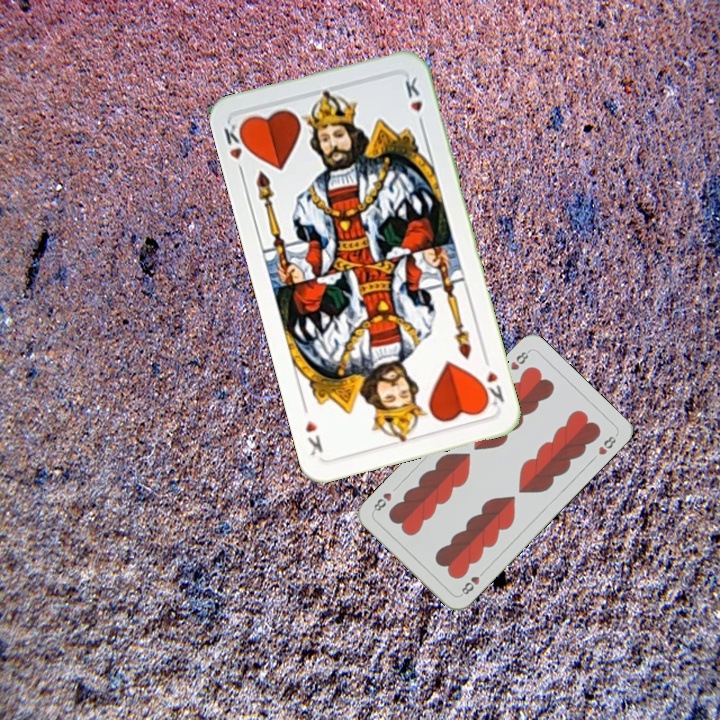H8: (457, 566, 488, 598), (506, 346, 532, 373)
HK: (219, 119, 252, 178), (476, 352, 507, 409)
